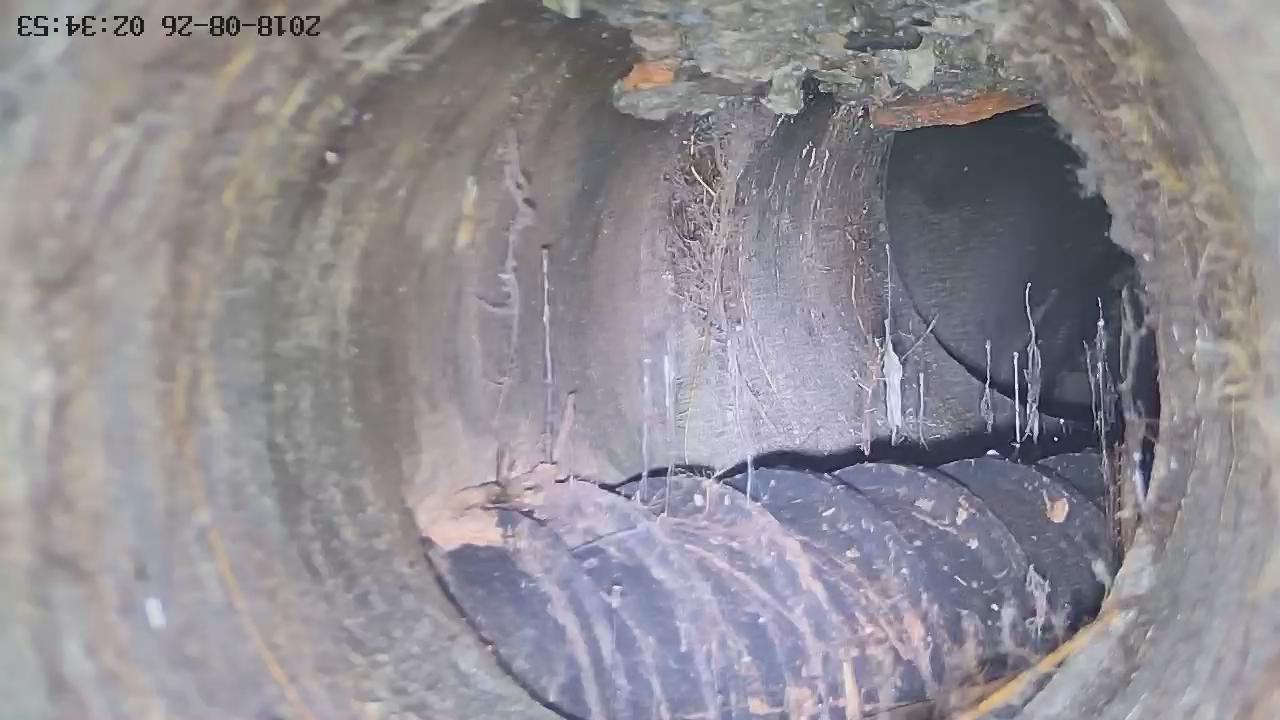CJ: (583, 3, 1039, 130)
YWCR: (432, 431, 1119, 720)
